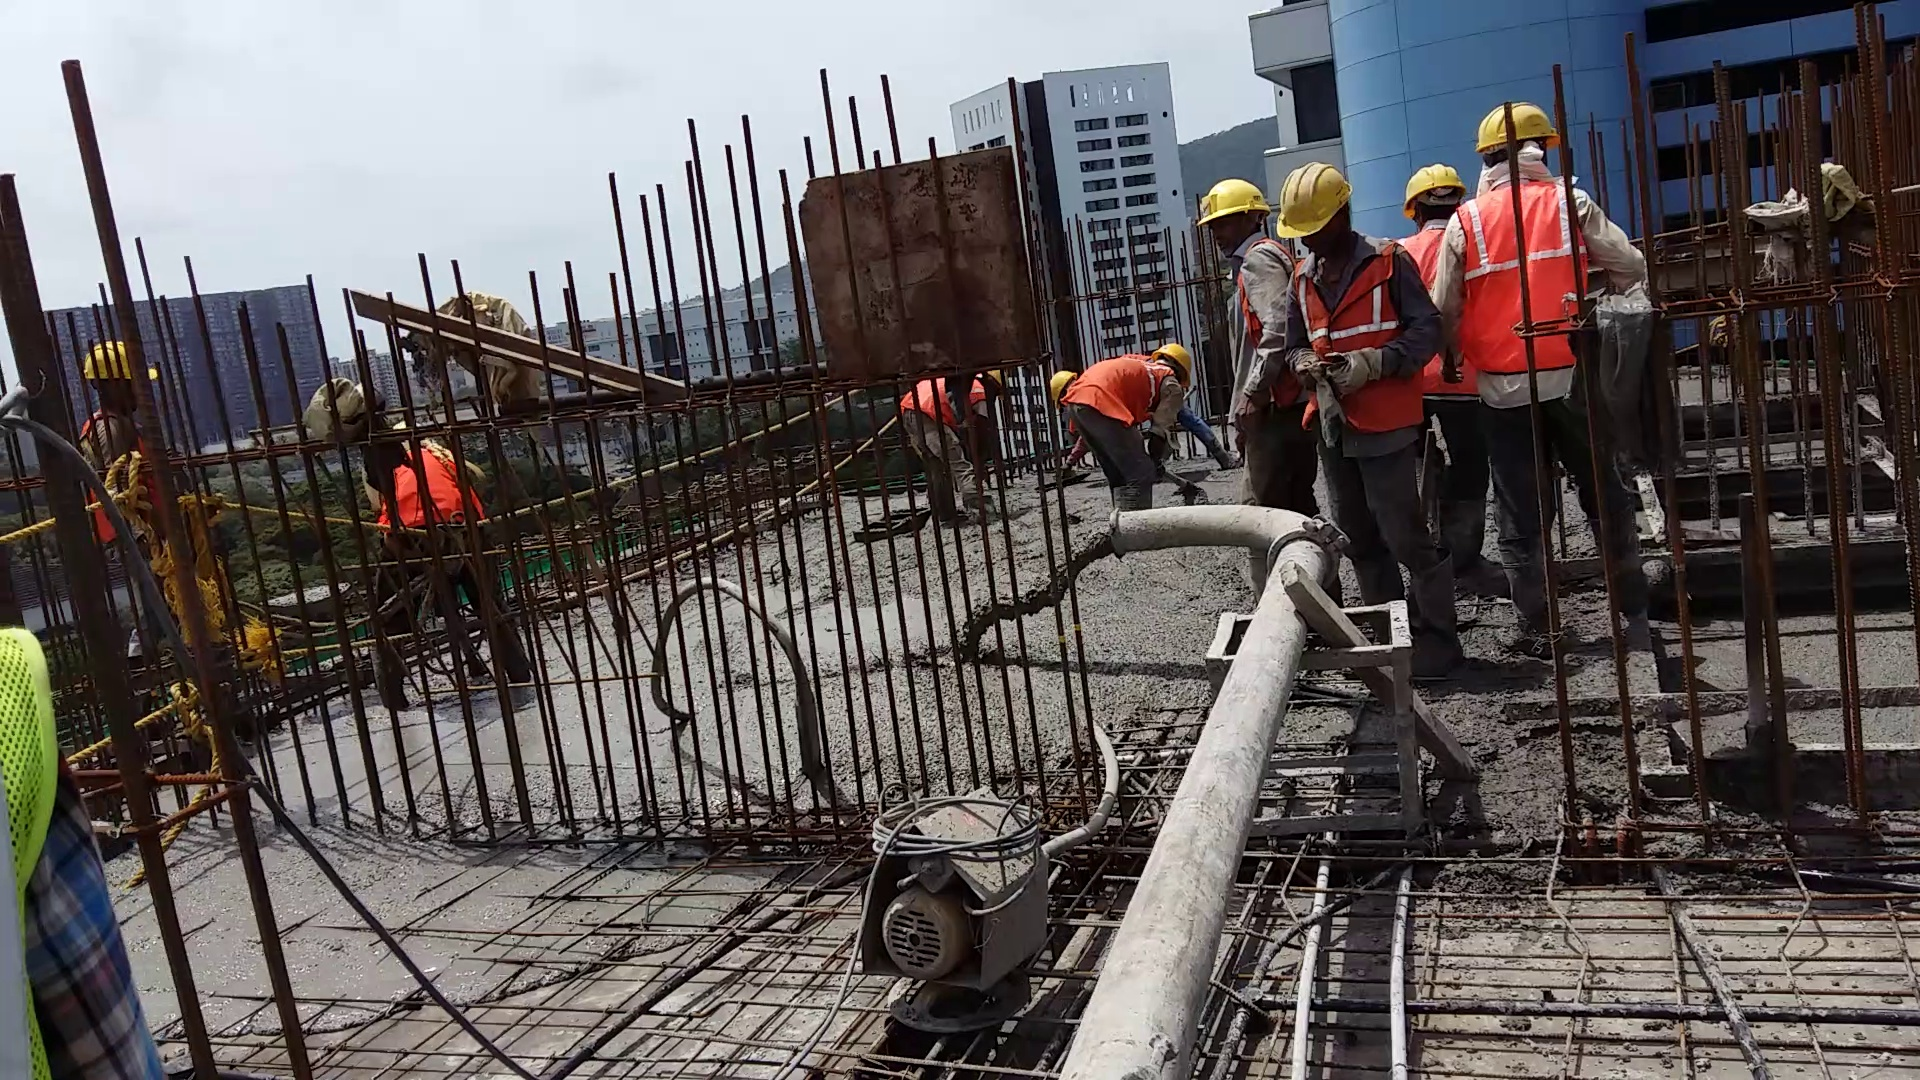SAFE: (1280, 165, 1414, 442), (1203, 171, 1284, 456), (1072, 330, 1200, 433)
